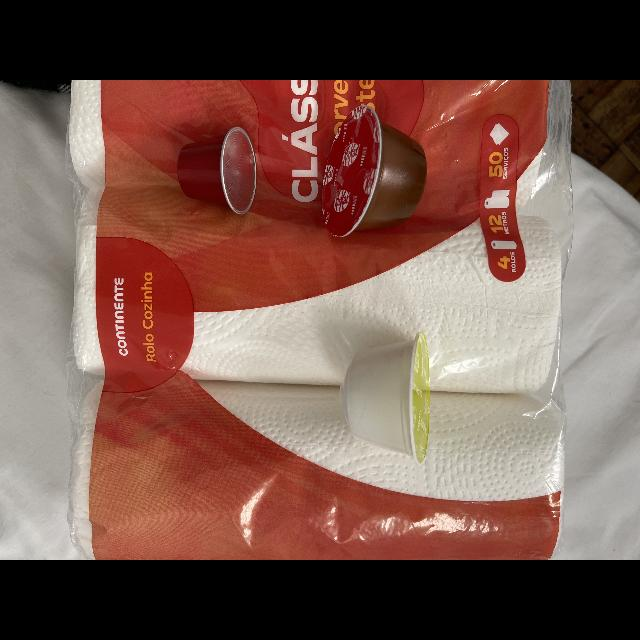intact_capsule: (328, 316, 450, 469), (308, 98, 432, 248), (168, 120, 266, 220)
